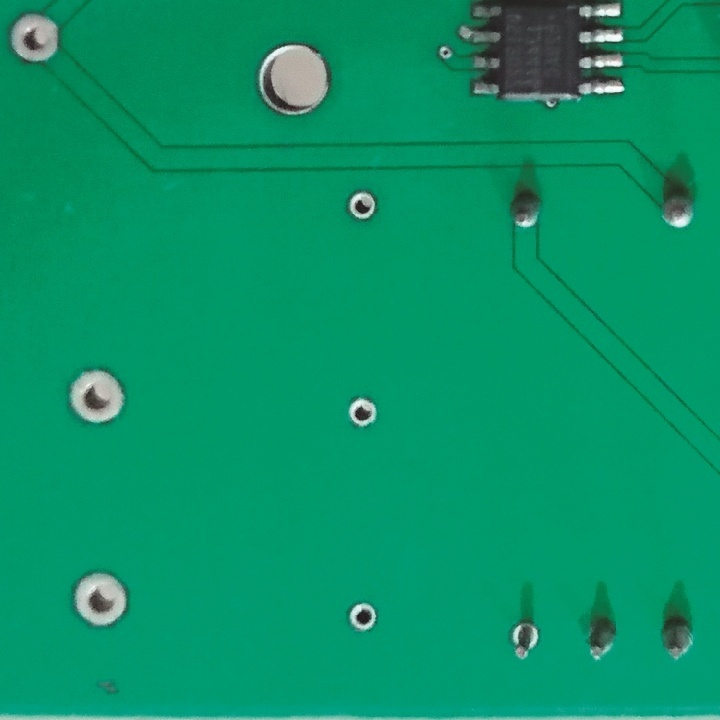F: (61, 365, 130, 428), (70, 568, 130, 630), (4, 11, 61, 69), (507, 615, 543, 663), (345, 391, 377, 435), (345, 186, 379, 226), (347, 598, 380, 634)
